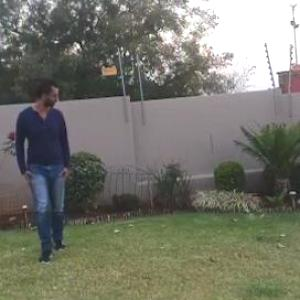follow: (19, 70, 77, 264)
